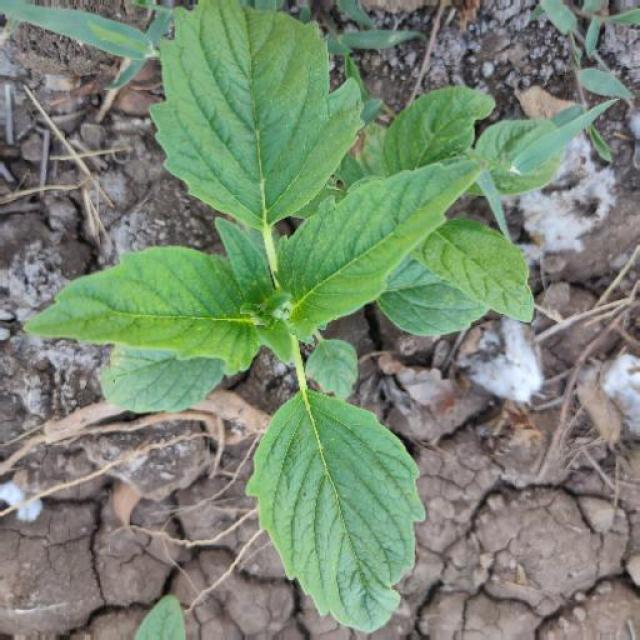crop: (26, 4, 482, 640)
